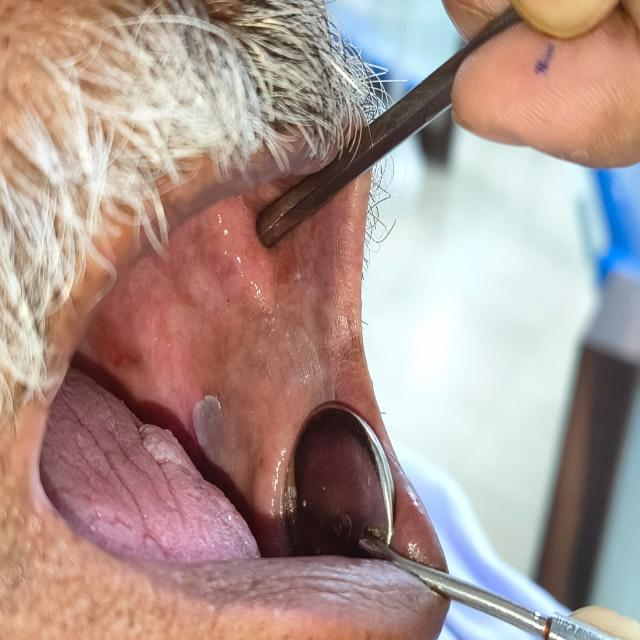leukoplakia-detection: (181, 215, 345, 483)
processing_area: (41, 176, 369, 565)
